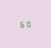six: (19, 20, 24, 28)
zero: (25, 20, 30, 27)
